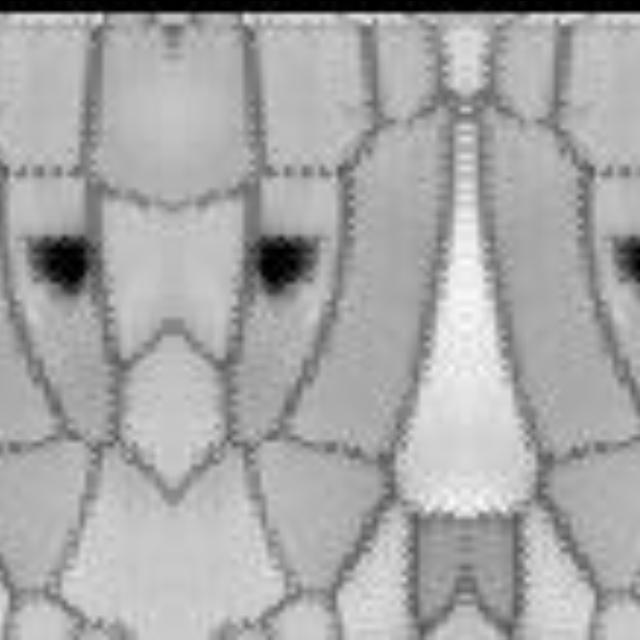good_void: (18, 219, 105, 302), (242, 219, 328, 302), (606, 222, 640, 296)
